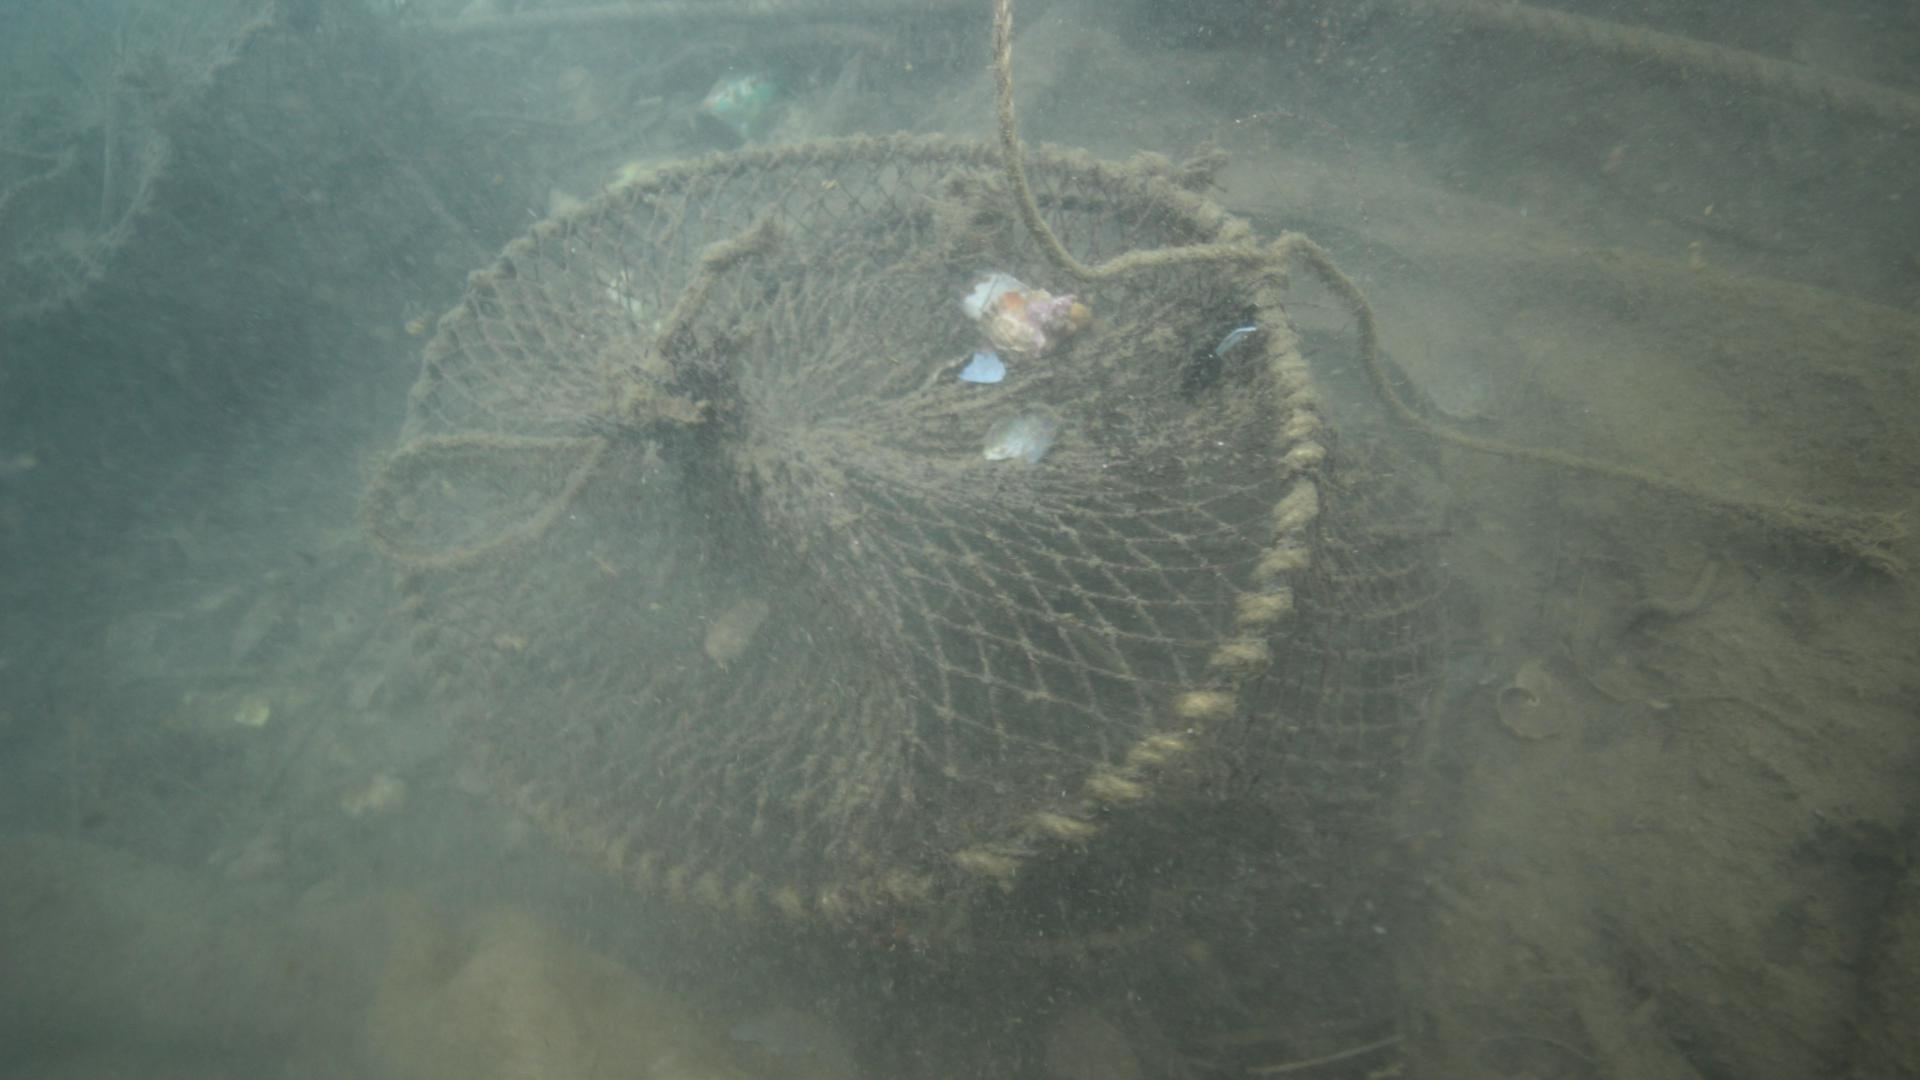circular fish trap: (353, 131, 1455, 1019)
rope: (992, 0, 1763, 516)
